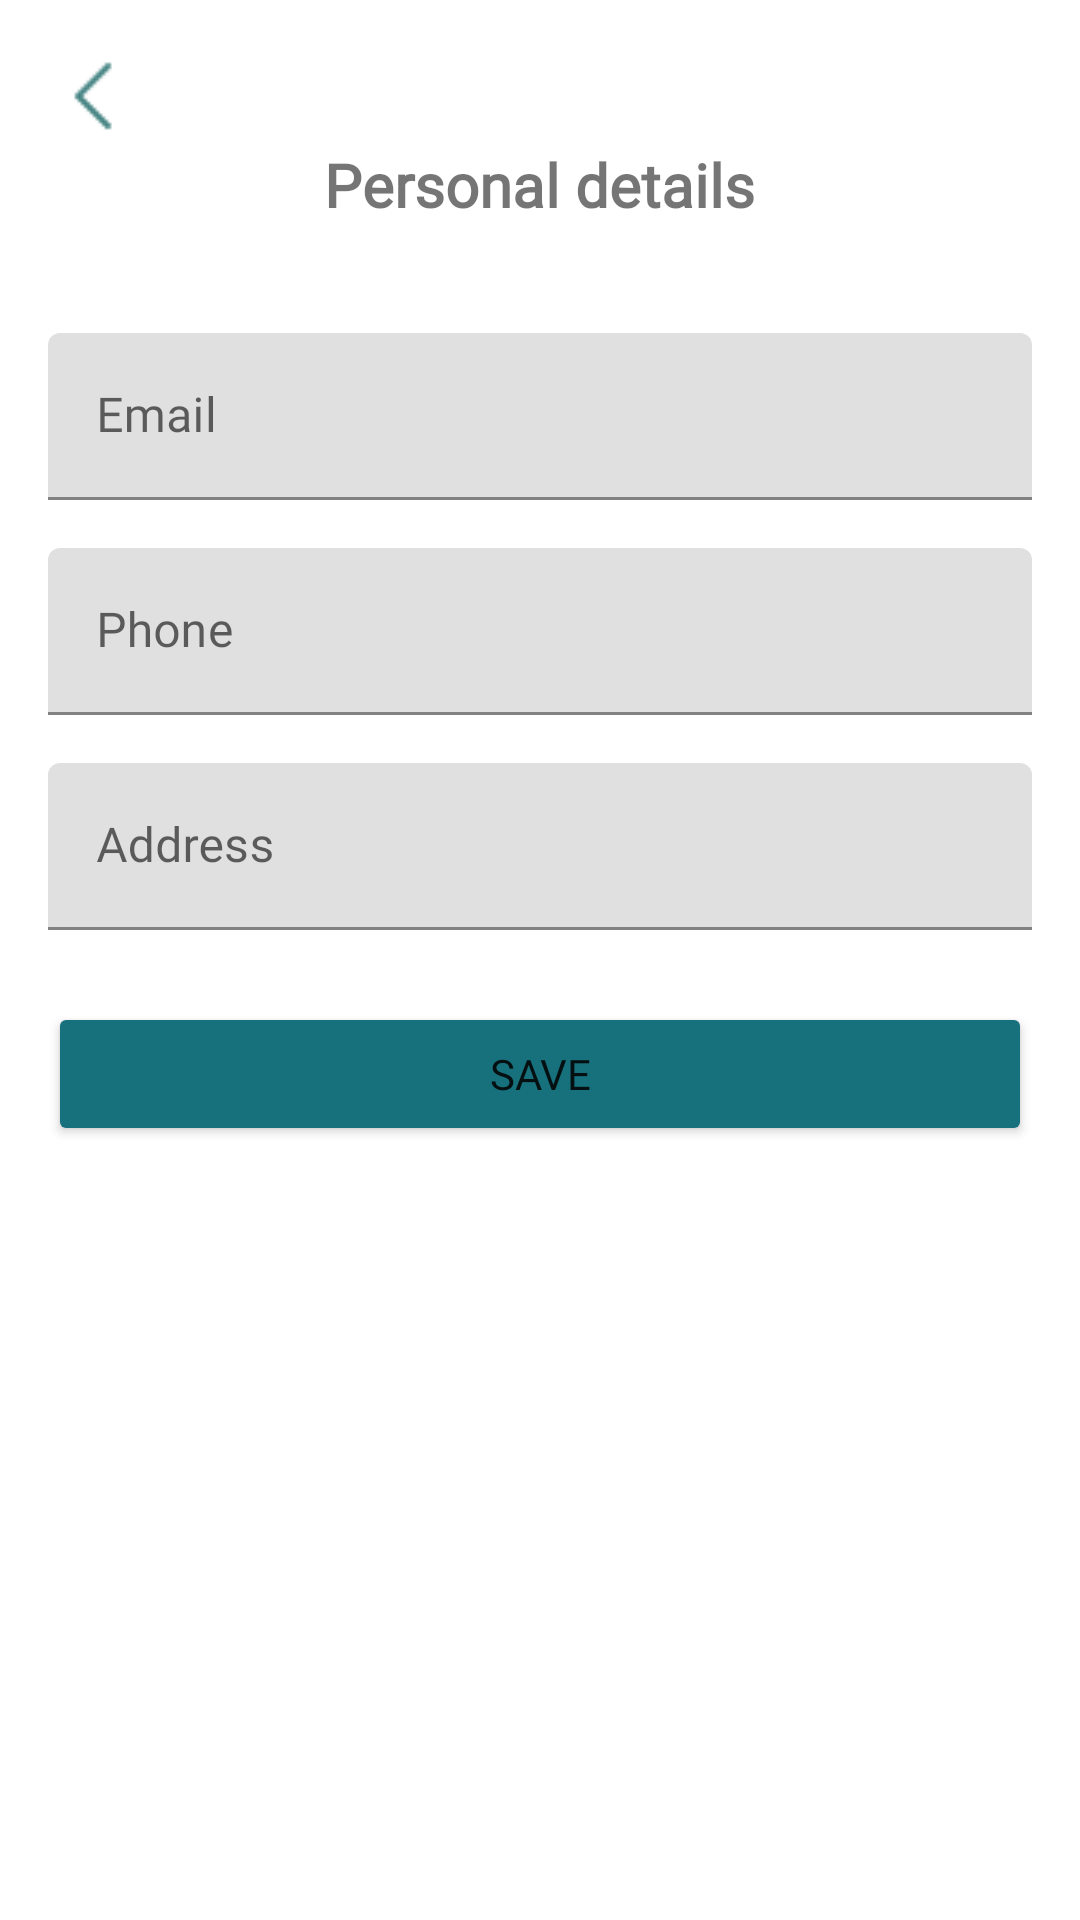

Screen size 1080px x 1920px. Icon name, then its center in pixels as [x,y]:
arrow left: [93,96]
